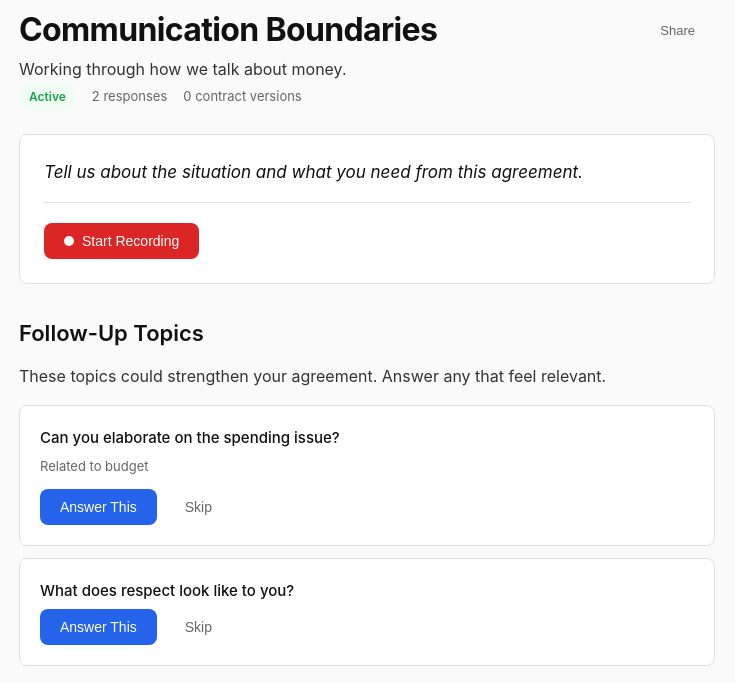
AgreementSession › sets active follow-up when Answer This is clicked
Check: the text "Can you elaborate on the spending issue?" is shown, box [40, 428, 340, 447]
Click the button "Answer This" below "Related to budget": (98, 507) [40, 489, 157, 525]
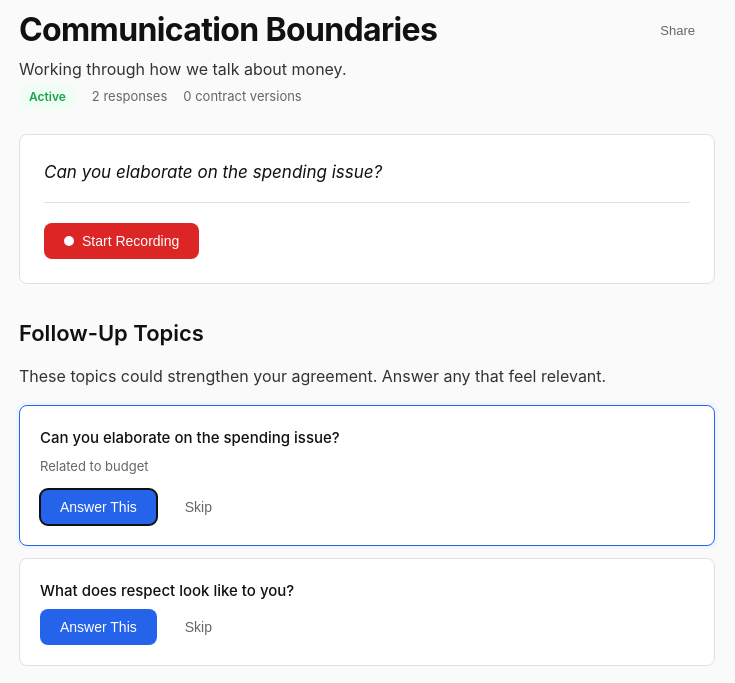
Check: the element with class "follow-up-card" that starts with "Can you elaborate on the spending issue?" is shown, box [19, 405, 715, 546]
